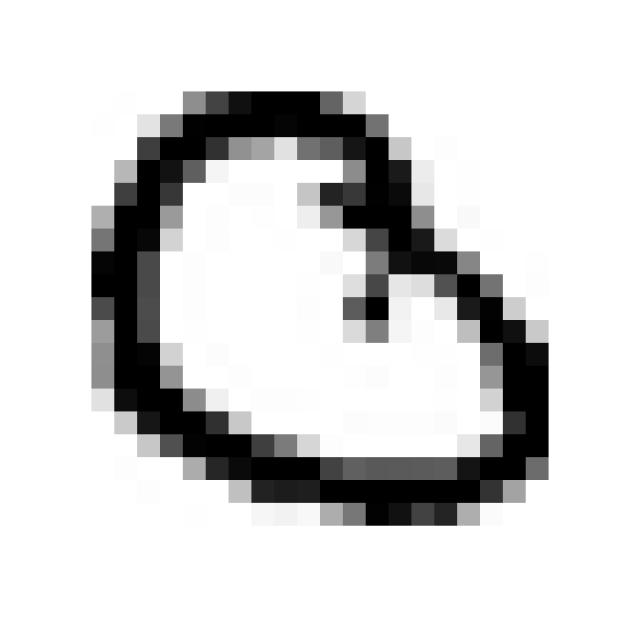5 -five-: (73, 73, 566, 541)
